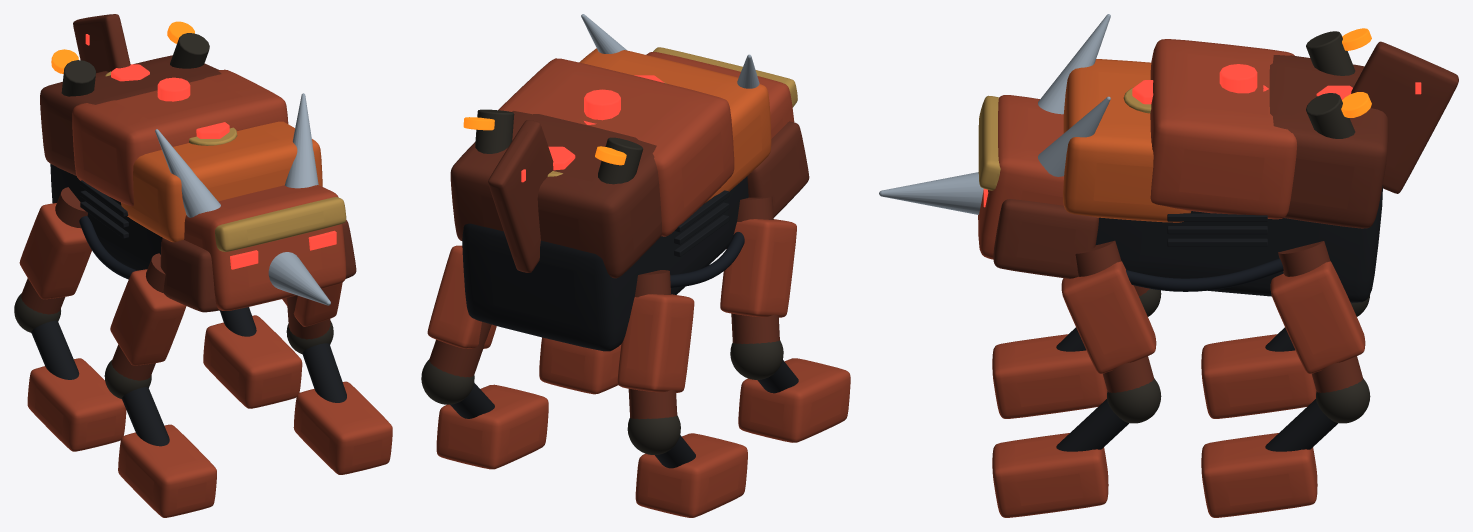
The model's file is charger.glb.
The picture shows the model from 3 angles, left to right: view 1: azimuth 30°, elevation 25°; view 2: azimuth 150°, elevation 25°; view 3: azimuth 270°, elevation 25°; orthographic projection. The views are drawn at different scales.
Parts seen in each view (by area): view 1: HullMid, HullFront, RamHead, Hoof1-1, Hoof-11, Hoof11, Hoof-1-1, HullBack, ThighGuard-11, ThighGuard-1-1, RamBrow, Cheek-1.001 (+25 smaller); view 2: HullFrame, HullBack, HullMid, HullFront, Hoof1-1, Hoof-1-1, Hoof-11, ThighGuard-1-1, ThighGuard-11, TailFin, Hoof11, Cheek-1.001 (+21 smaller); view 3: HullMid, HullBack, HullFrame, HullFront, TailFin, Hoof11, Hoof1-1, Hoof-11, Hoof-1-1, RamHead, ThighGuard1-1, ThighGuard11 (+18 smaller).
Part boxes in pixels (left/top/right/bottom): HullMid: left=72, top=69, right=288, bottom=206; HullFront: left=121, top=121, right=322, bottom=242; RamHead: left=184, top=185, right=346, bottom=310; Hoof1-1: left=203, top=315, right=302, bottom=408; Hoof-11: left=118, top=424, right=216, bottom=517; Hoof11: left=293, top=381, right=392, bottom=474; Hoof-1-1: left=27, top=358, right=126, bottom=451; HullBack: left=40, top=55, right=221, bottom=175; ThighGuard-11: left=110, top=269, right=186, bottom=365; ThighGuard-1-1: left=19, top=203, right=91, bottom=299; RamBrow: left=215, top=197, right=346, bottom=251; Cheek-1.001: left=160, top=238, right=219, bottom=312; HullFrame: left=462, top=176, right=748, bottom=351; HullBack: left=450, top=111, right=661, bottom=278; HullMid: left=498, top=58, right=734, bottom=236; HullFront: left=579, top=48, right=771, bottom=202; Hoof1-1: left=436, top=384, right=548, bottom=469; Hoof-1-1: left=635, top=433, right=747, bottom=517; Hoof-11: left=738, top=358, right=850, bottom=442; ThighGuard-1-1: left=617, top=294, right=694, bottom=392; ThighGuard-11: left=720, top=219, right=796, bottom=317; TailFin: left=488, top=120, right=553, bottom=272; Hoof11: left=539, top=337, right=621, bottom=394; Cheek-1.001: left=747, top=121, right=809, bottom=217; HullMid: left=1150, top=39, right=1296, bottom=219; HullBack: left=1269, top=55, right=1388, bottom=228; HullFrame: left=1095, top=185, right=1382, bottom=302; HullFront: left=1063, top=59, right=1191, bottom=222; TailFin: left=1351, top=41, right=1458, bottom=193; Hoof11: left=992, top=433, right=1108, bottom=517; Hoof1-1: left=1201, top=433, right=1317, bottom=517; Hoof-11: left=992, top=334, right=1107, bottom=418; Hoof-1-1: left=1201, top=334, right=1316, bottom=418; RamHead: left=978, top=95, right=1063, bottom=259; ThighGuard1-1: left=1270, top=261, right=1365, bottom=373; ThighGuard11: left=1061, top=261, right=1156, bottom=373.
Size of the model in its own units: 0.7394 by 1.09 by 1.39.
